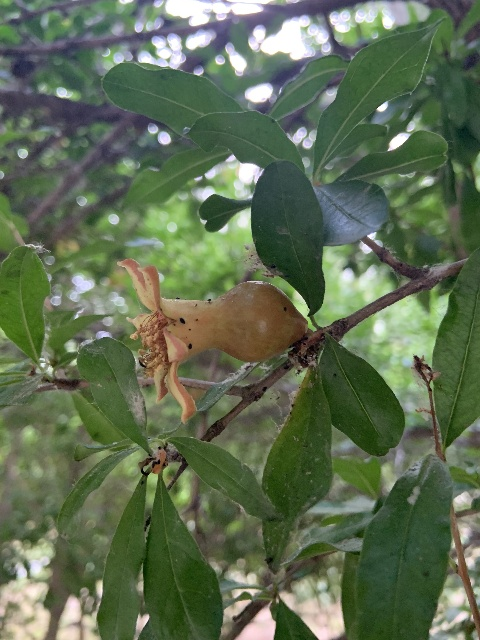early-fruit: (120, 260, 306, 423)
